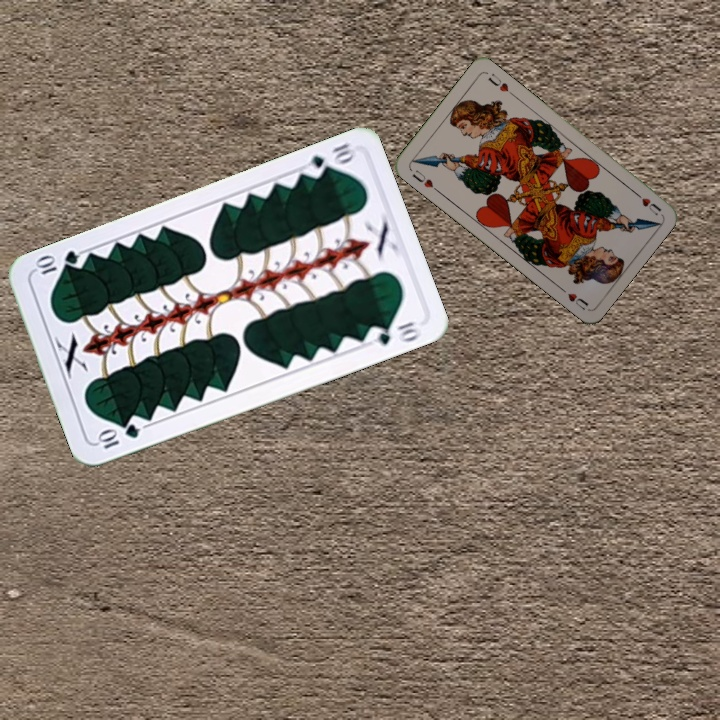G10: (302, 139, 357, 181), (92, 420, 142, 452)
HU: (630, 187, 664, 218), (408, 165, 441, 194)
